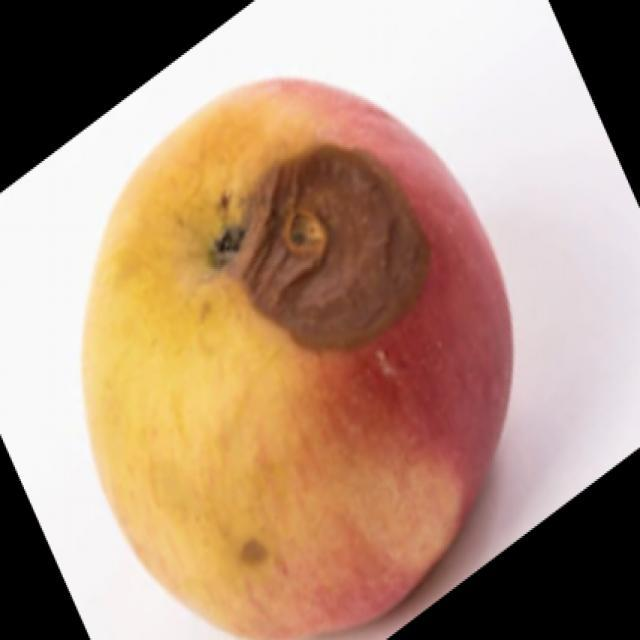Rotten: (95, 91, 503, 636)
